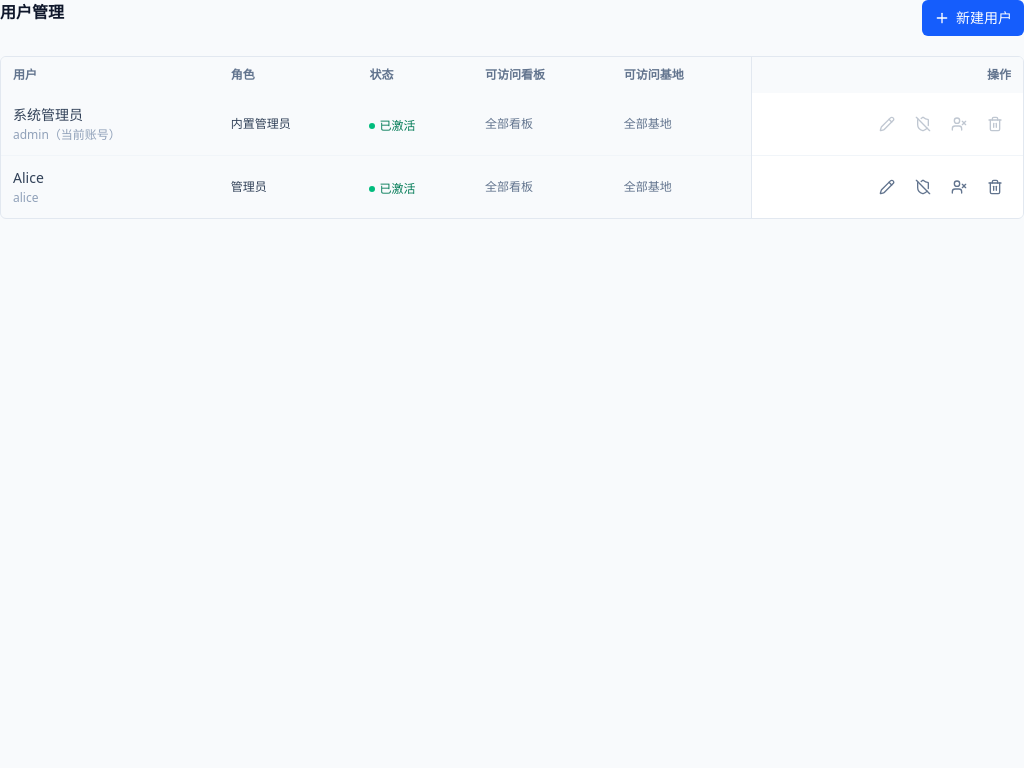
user administrator roles › keeps original dashboard permissions when editing an administrator
Click the 2nd button named "编辑用户" at (887, 187), box x1=871 y1=171 x2=903 y2=203
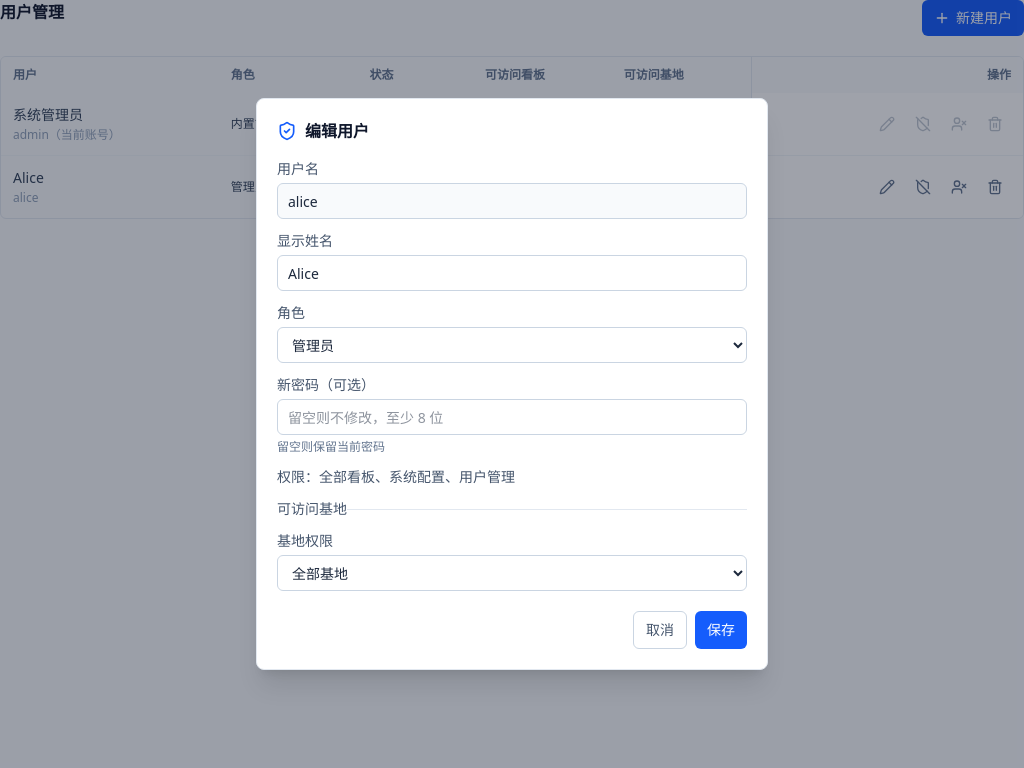
Replace the text in the field labelled "显示姓名" with "Alice Updated" at (512, 273), box x1=277 y1=255 x2=747 y2=291
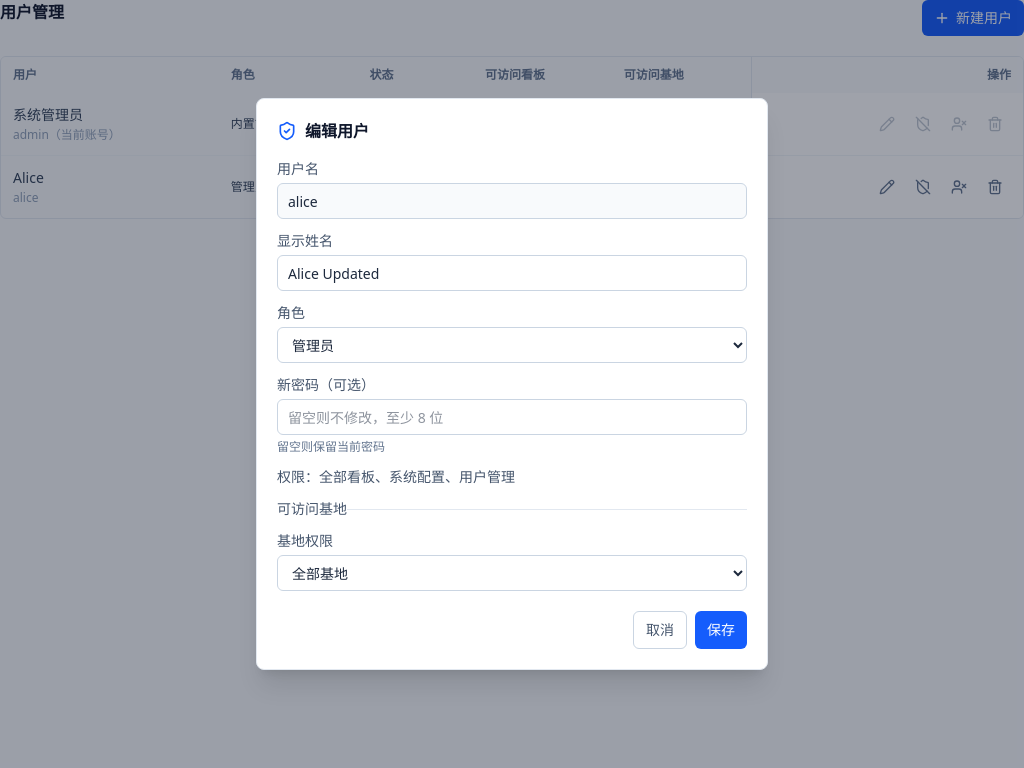
Click the button "保存" at (721, 630), box x1=695 y1=611 x2=747 y2=649
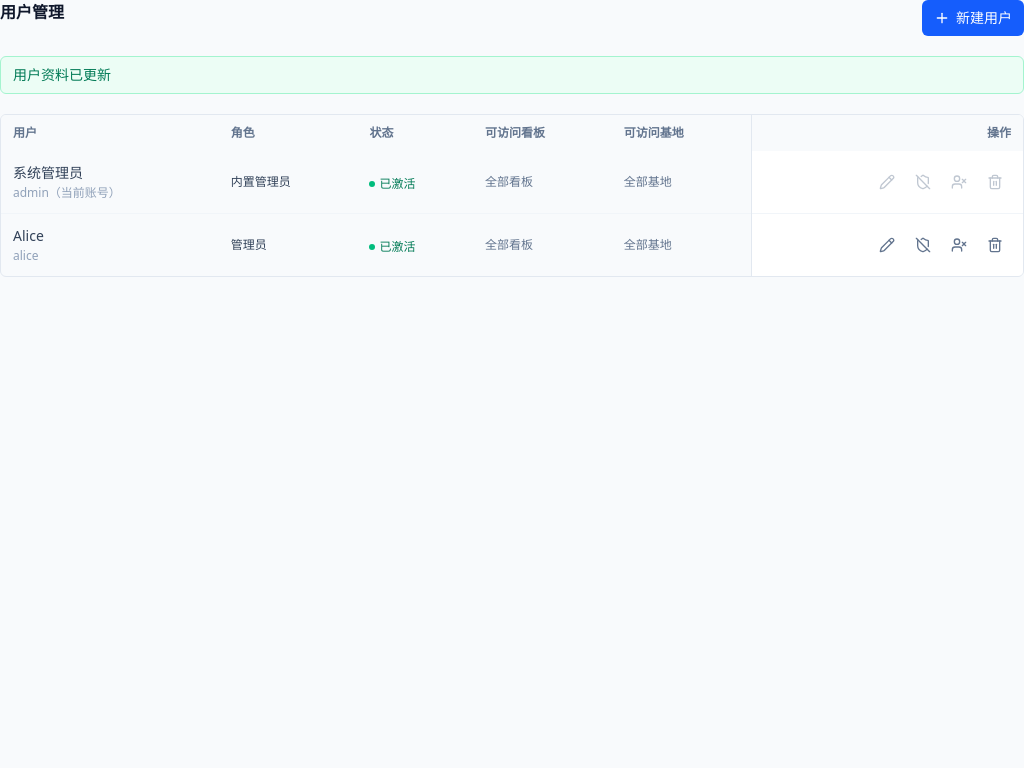
Expected: the dialog is gone
